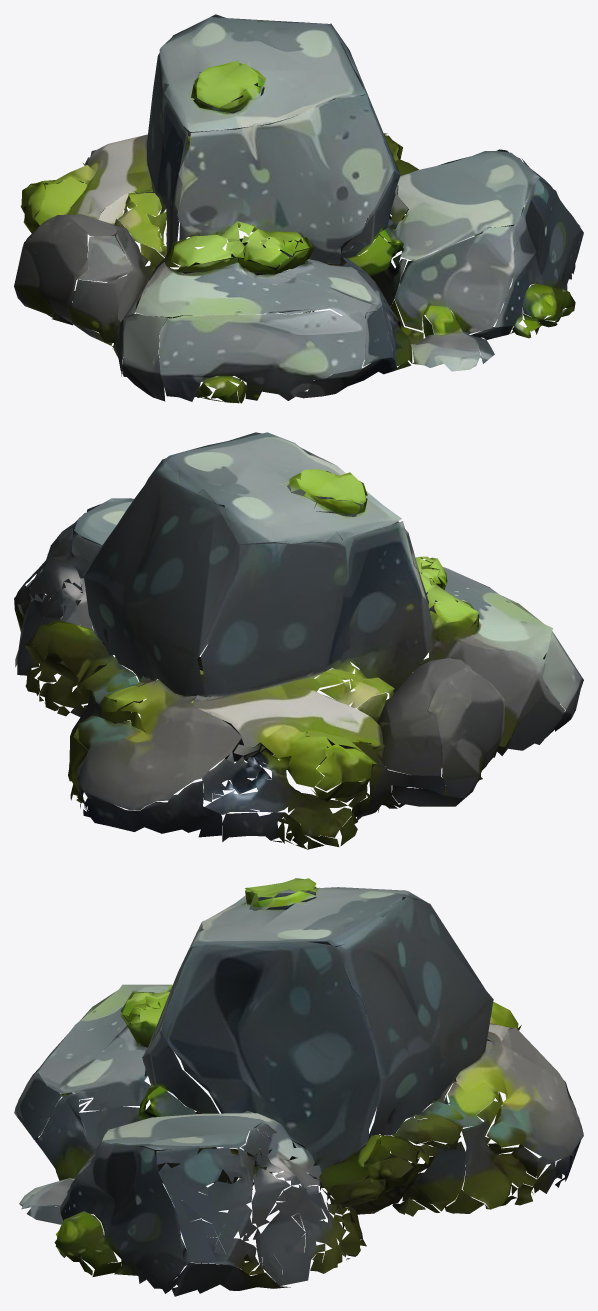
The model's file is rock_cluster.glb.
3 renders of one model, top to bottom at view 1: azimuth 30°, elevation 25°; view 2: azimuth 150°, elevation 25°; view 3: azimuth 270°, elevation 25°, orthographic. The views are drawn at different scales.
Visible parts, largest first — view 1: rock_cluster; view 2: rock_cluster; view 3: rock_cluster.
Boxes of the visible parts, left/top/right/bottom form: rock_cluster: left=14, top=14, right=583, bottom=403; rock_cluster: left=14, top=432, right=583, bottom=849; rock_cluster: left=14, top=878, right=583, bottom=1296.
Size of the model in its own units: 2.1 by 1.02 by 1.95.
Materials: 1 (1 with a texture image).
